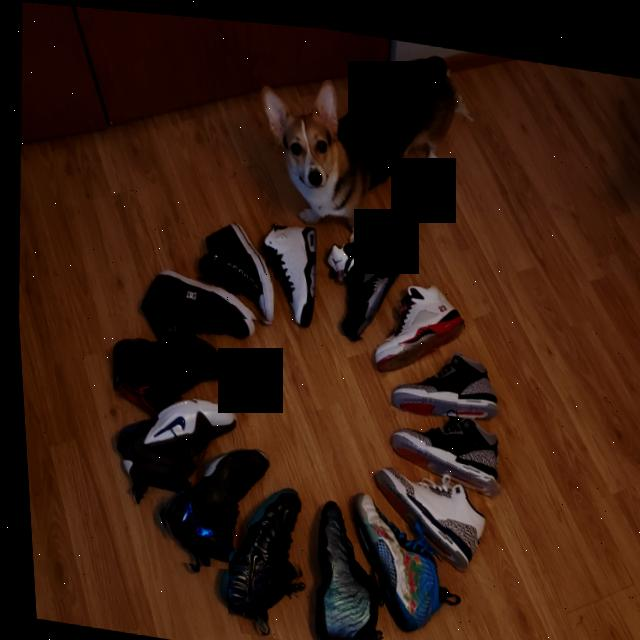shoe: (109, 385, 251, 510), (337, 479, 447, 639), (146, 432, 270, 572), (212, 470, 307, 639), (362, 453, 489, 566), (300, 485, 380, 640), (367, 264, 466, 378), (323, 202, 402, 337), (382, 400, 504, 487), (189, 203, 277, 321), (255, 186, 326, 331), (382, 335, 501, 418), (105, 326, 228, 405), (136, 268, 251, 345)
